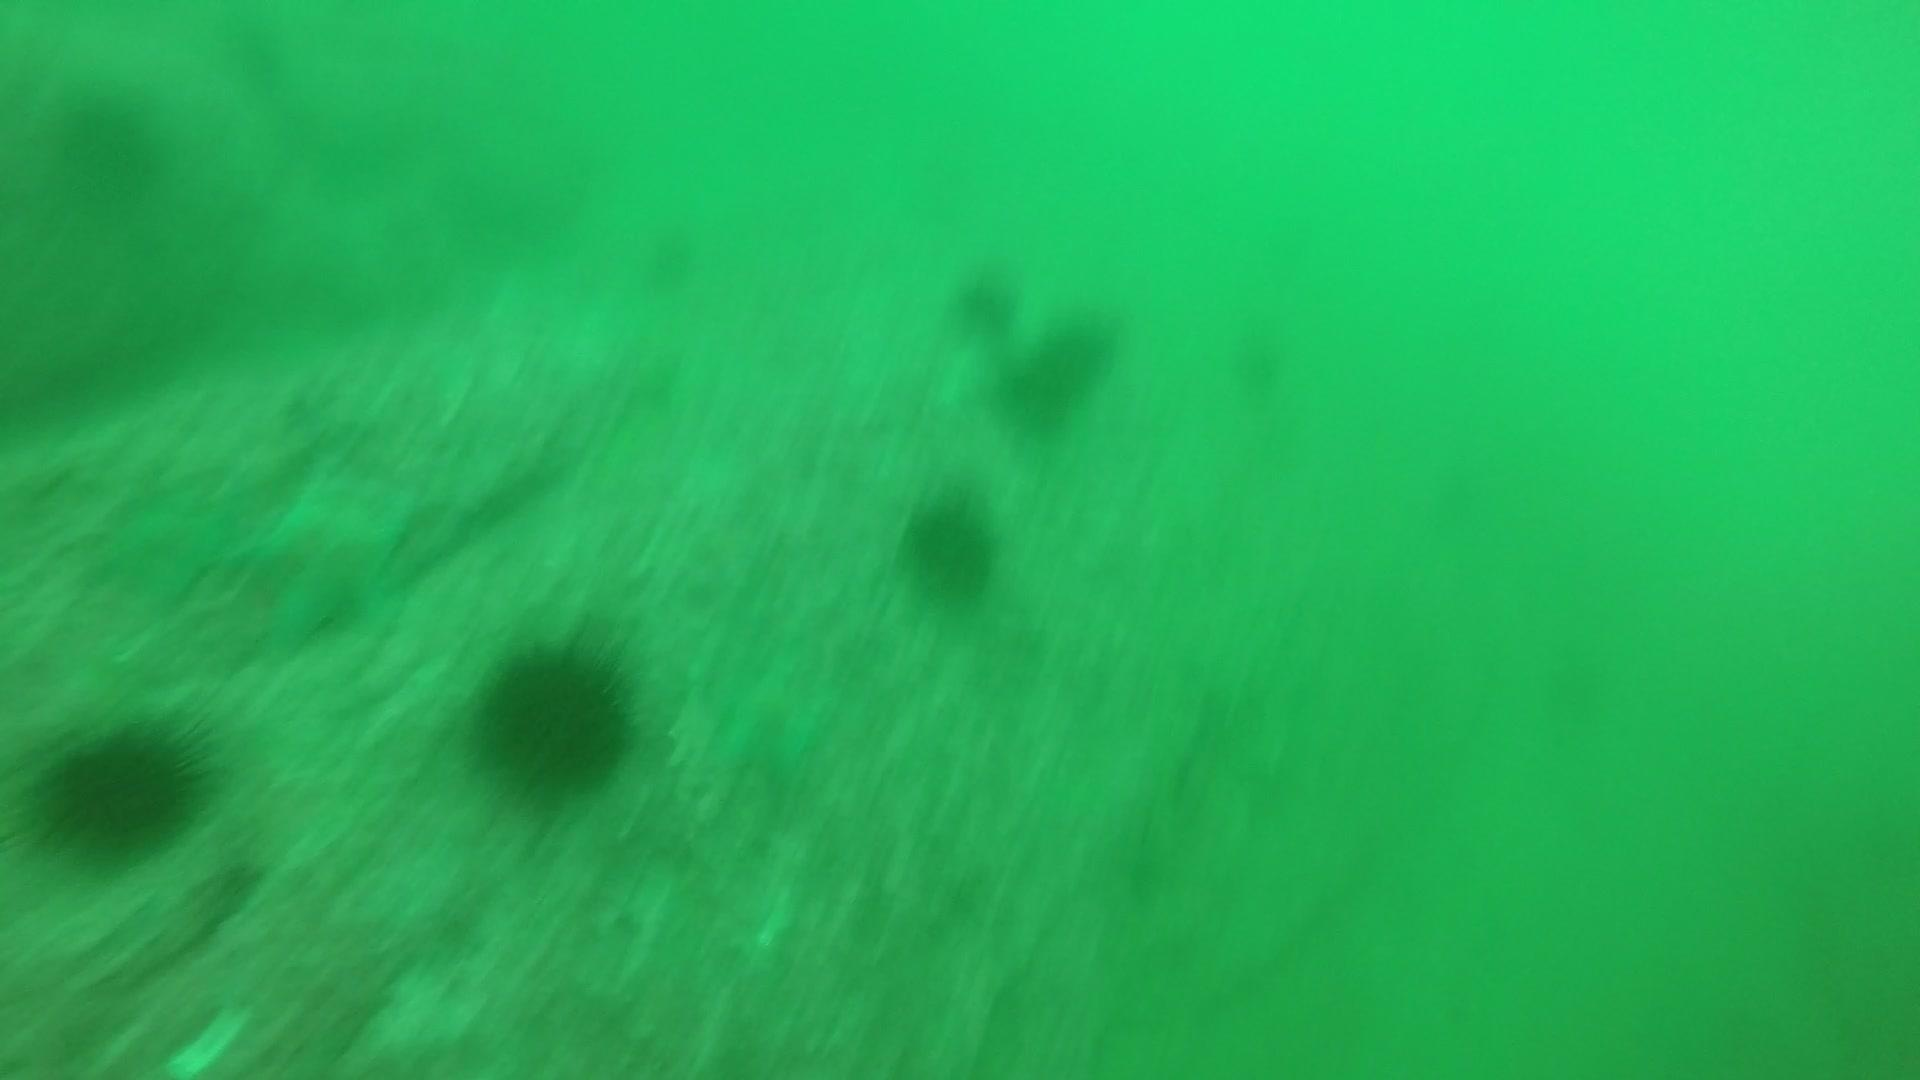echinus: (465, 630, 644, 803), (32, 709, 218, 862), (44, 79, 171, 208), (895, 487, 1006, 607), (982, 357, 1069, 431), (1036, 318, 1124, 392), (945, 258, 1025, 336)
starfish: (228, 460, 425, 650), (695, 654, 839, 785)
